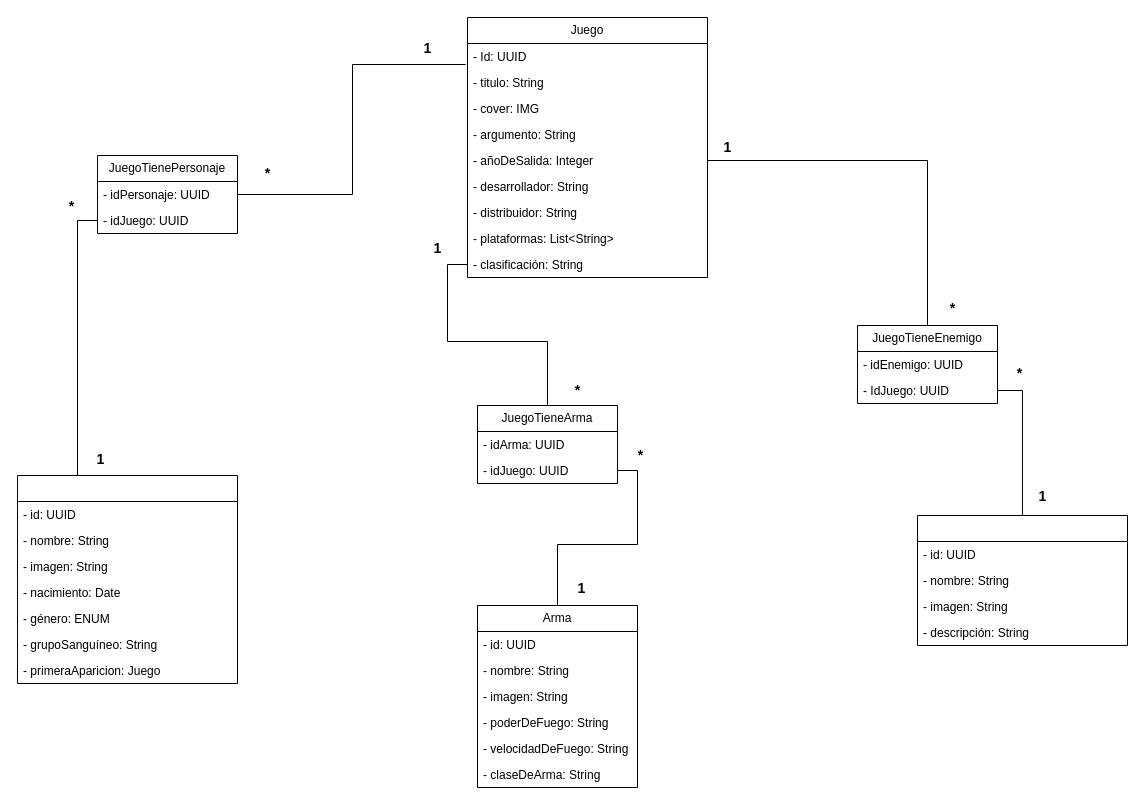
Image size: 1145x808. Some labels were removed from this diagram. The box of each missing label's shape, as (x1, y1, x2, y2) in pixels:
Enemigo: (916, 514, 1128, 646)
Personaje: (16, 474, 238, 684)
